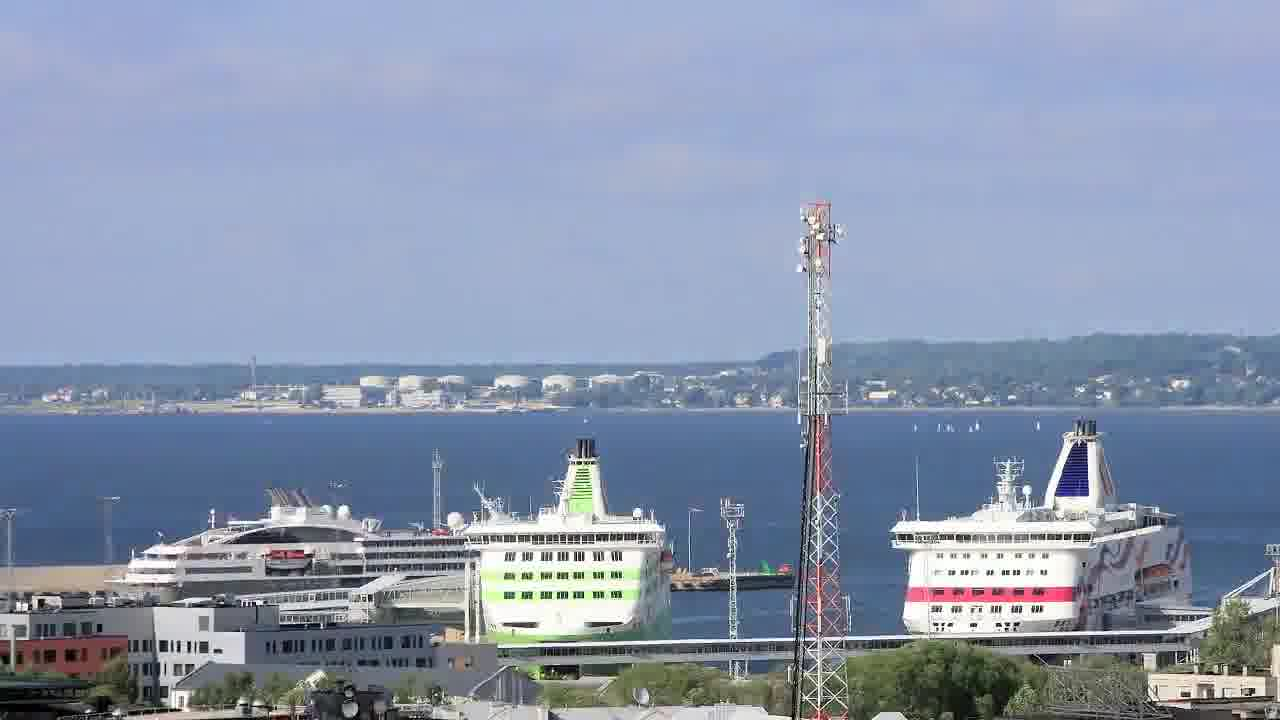type-3: (868, 415, 1225, 638), (436, 434, 694, 670), (118, 475, 497, 608)
